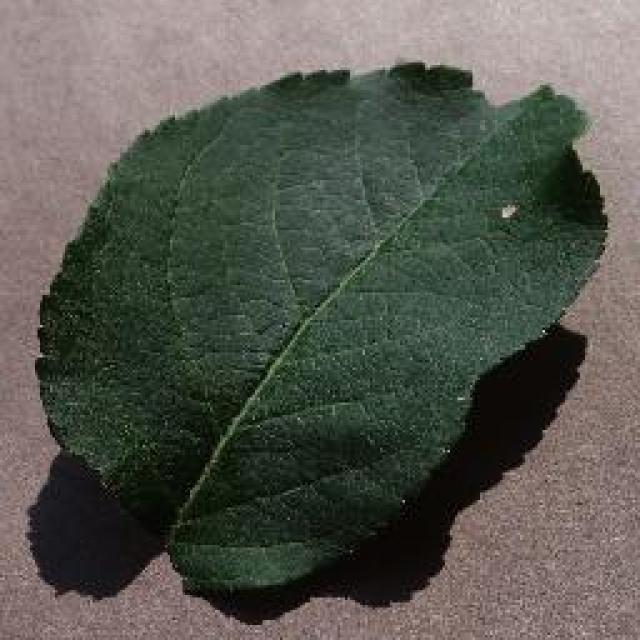apple healthy: (32, 58, 610, 598)
